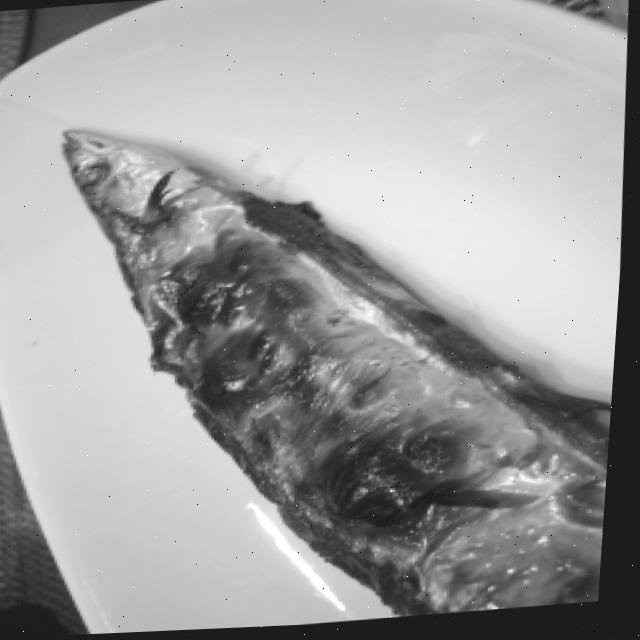熟制海鲜: (0, 70, 635, 639)
